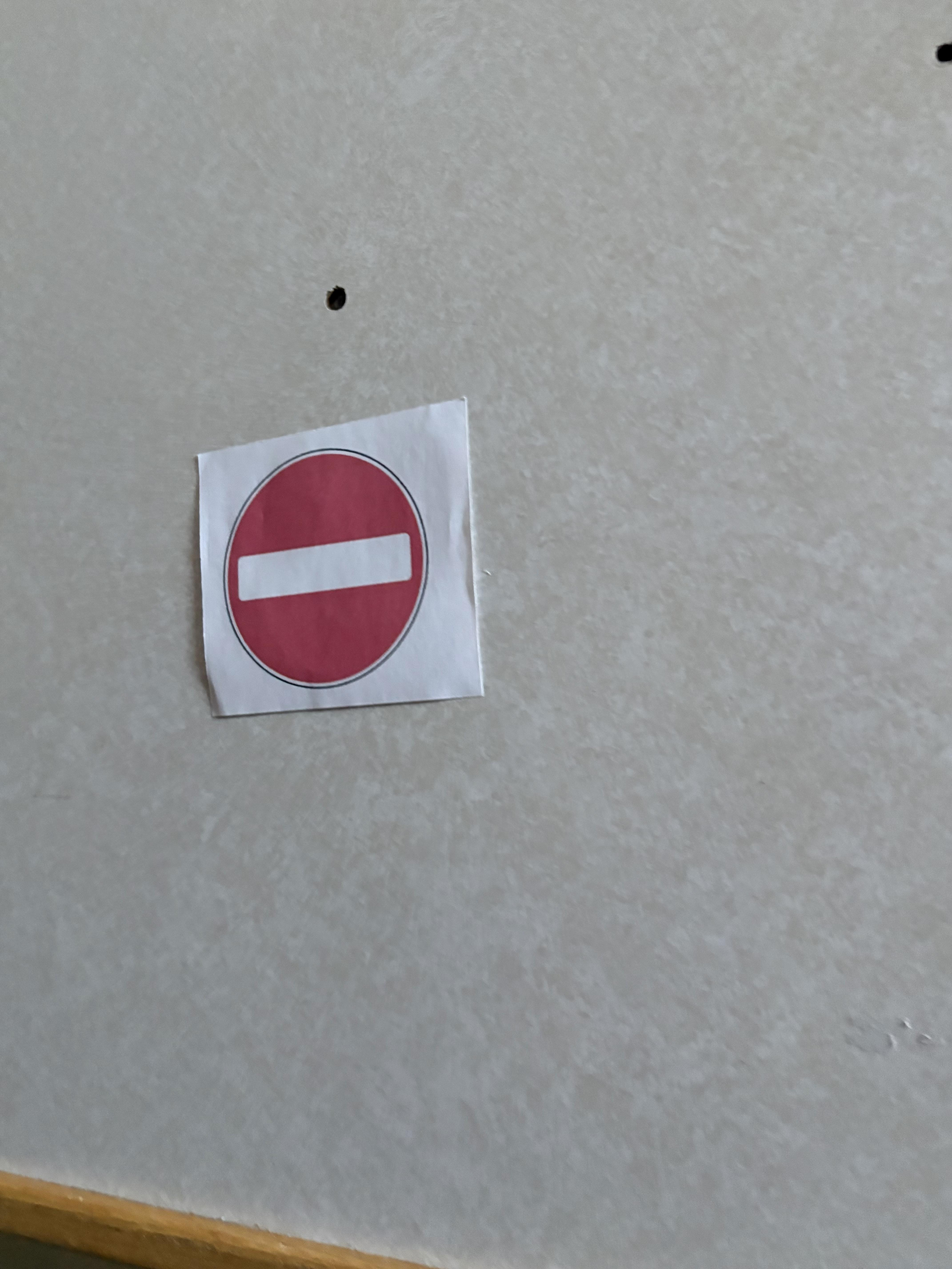No Entry: (205, 398, 492, 725)
